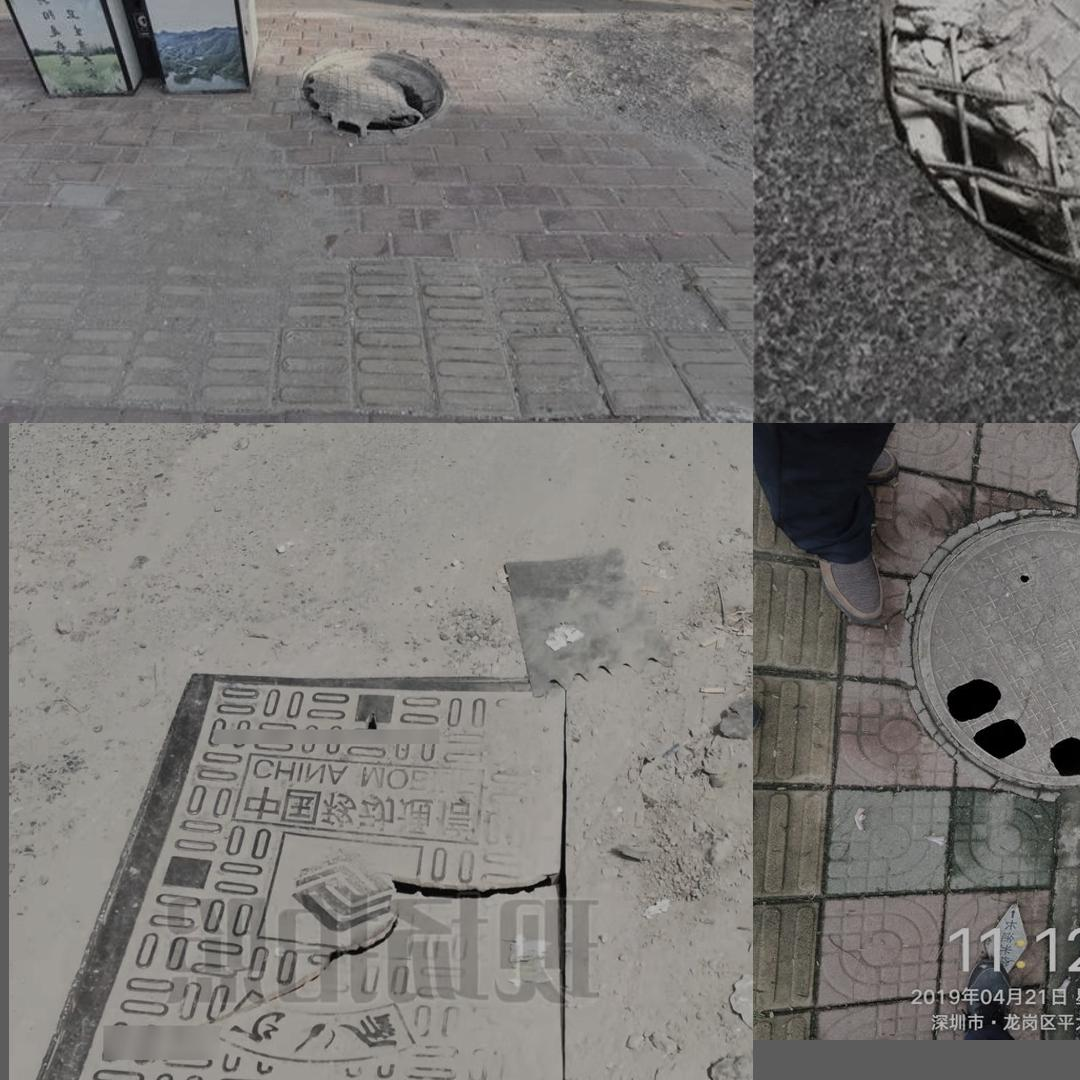broke: (8, 670, 581, 1080), (870, 0, 1080, 329), (900, 503, 1080, 804), (275, 26, 466, 168)
